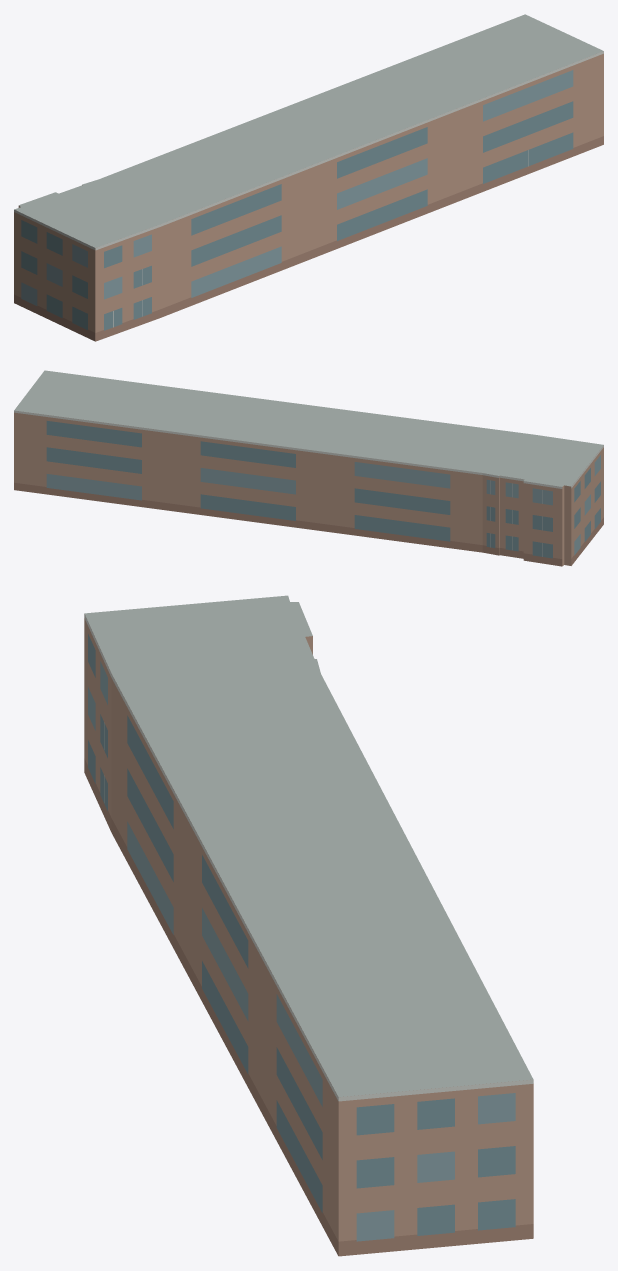
Rendered from survey-upis-32752052.glb.
3 renders of one model, top to bottom at view 1: azimuth 30°, elevation 25°; view 2: azimuth 150°, elevation 25°; view 3: azimuth 270°, elevation 25°, orthographic. The views are drawn at different scales.
Parts seen in each view (by area): view 1: survey-upis-32752052.tmp; view 2: survey-upis-32752052.tmp; view 3: survey-upis-32752052.tmp.
Boxes of the visible parts, <box> form: survey-upis-32752052.tmp: <box>14,14,603,341</box>; survey-upis-32752052.tmp: <box>14,370,603,566</box>; survey-upis-32752052.tmp: <box>84,595,533,1256</box>.
Bounding box in the file's own units: 61.86 × 9.15 × 23.41.
